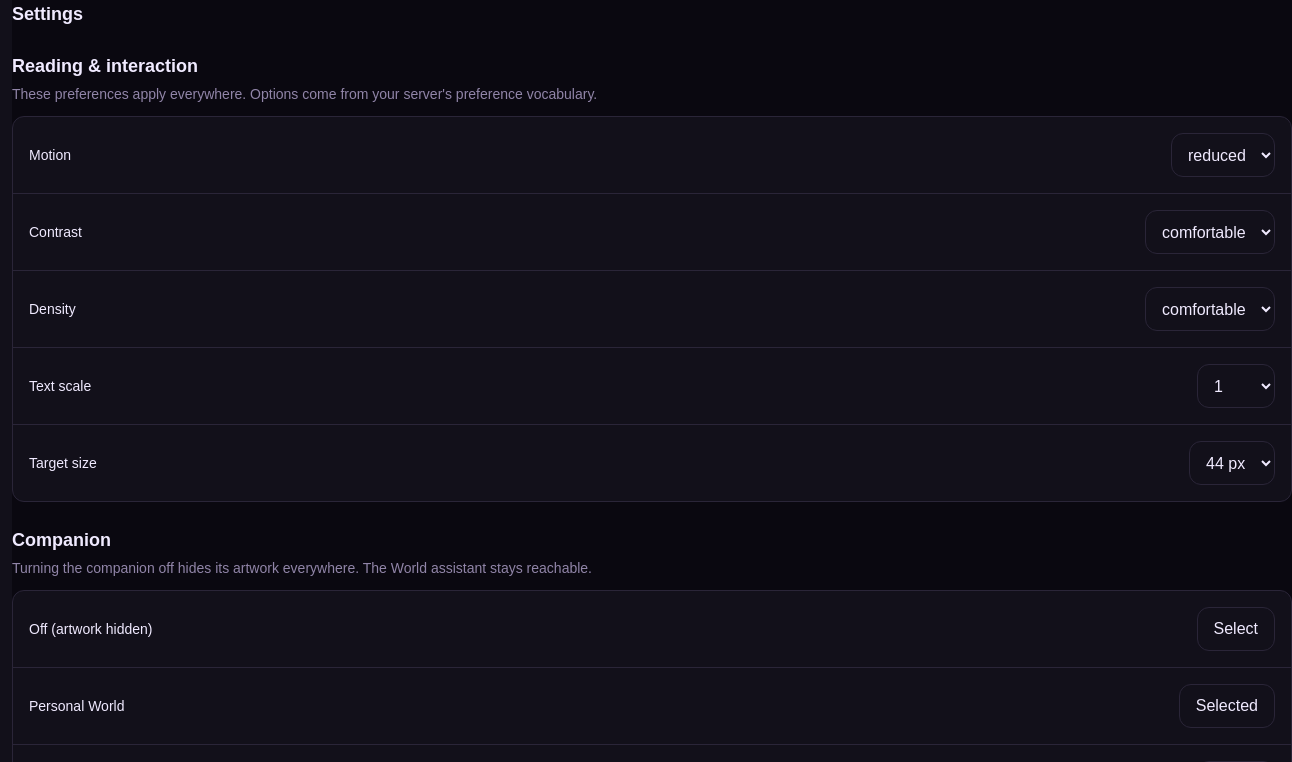
Settings: prefs render from GET /api/prefs/schema (parity row 6) › server 400 on a pref is shown SPECIFICALLY (field + reason), no generic failure
Select "0.5" in the dropdown labelled "Text scale" at (1236, 386), box [1197,364,1275,408]
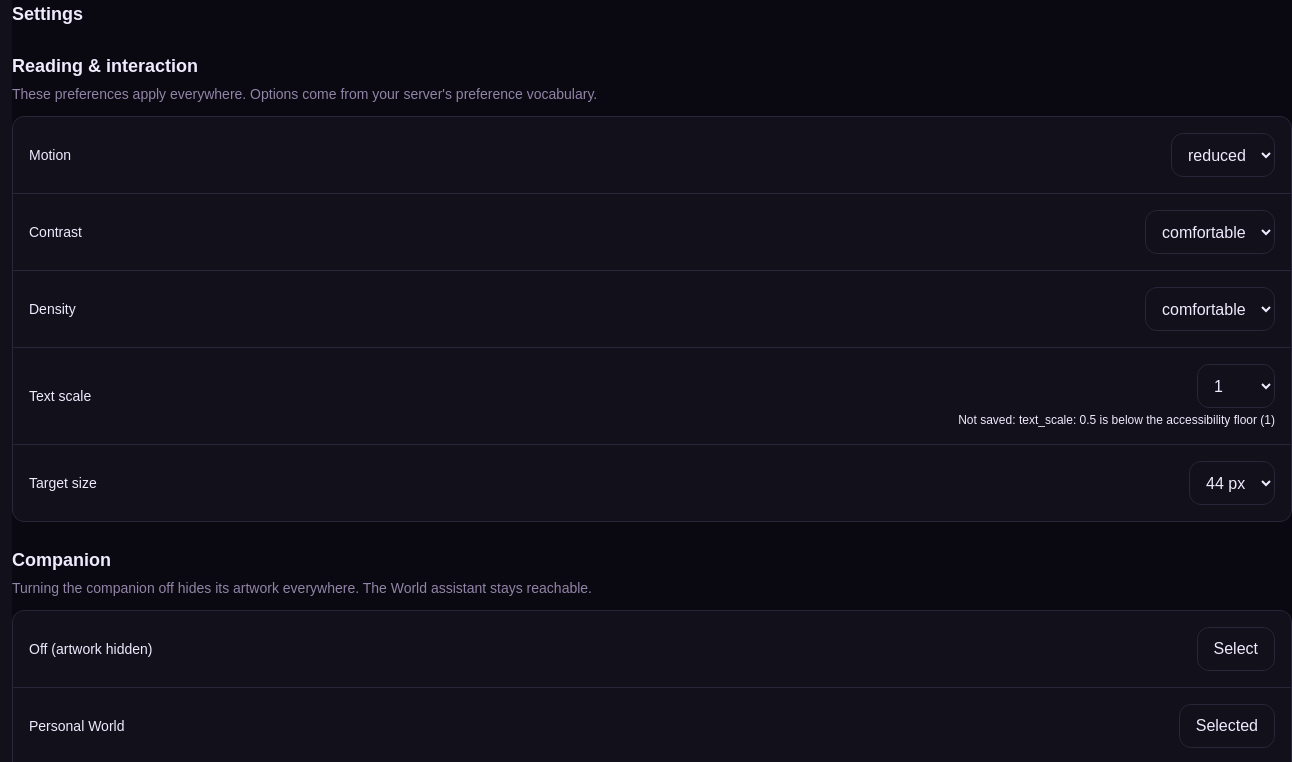
Expected: the dropdown labelled "Motion" is shown, [1171,133,1275,177]
Result: the message with test id "pref-error-text_scale" shows "text_scale: 0.5 is below the accessibility floor" at [958,413,1275,427]
